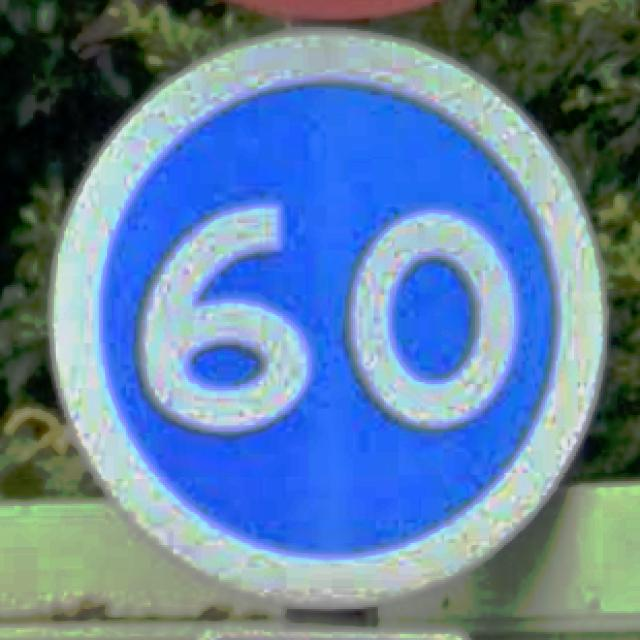min60: (45, 23, 609, 609)
